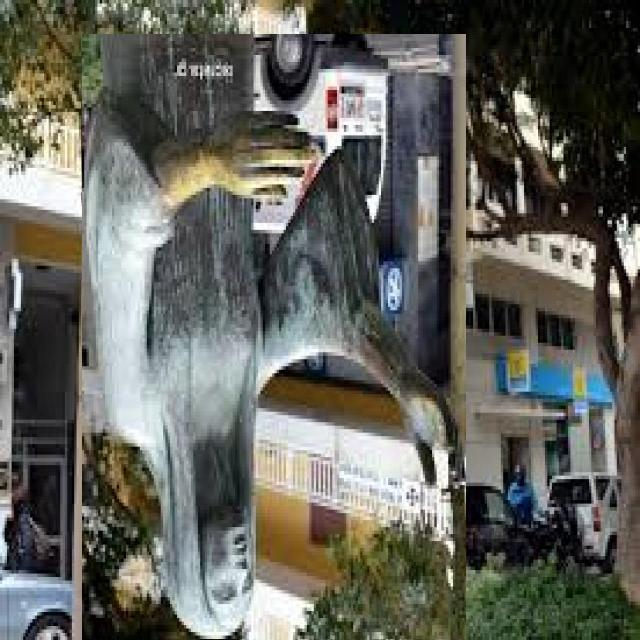Aretousa: (83, 35, 467, 640)
